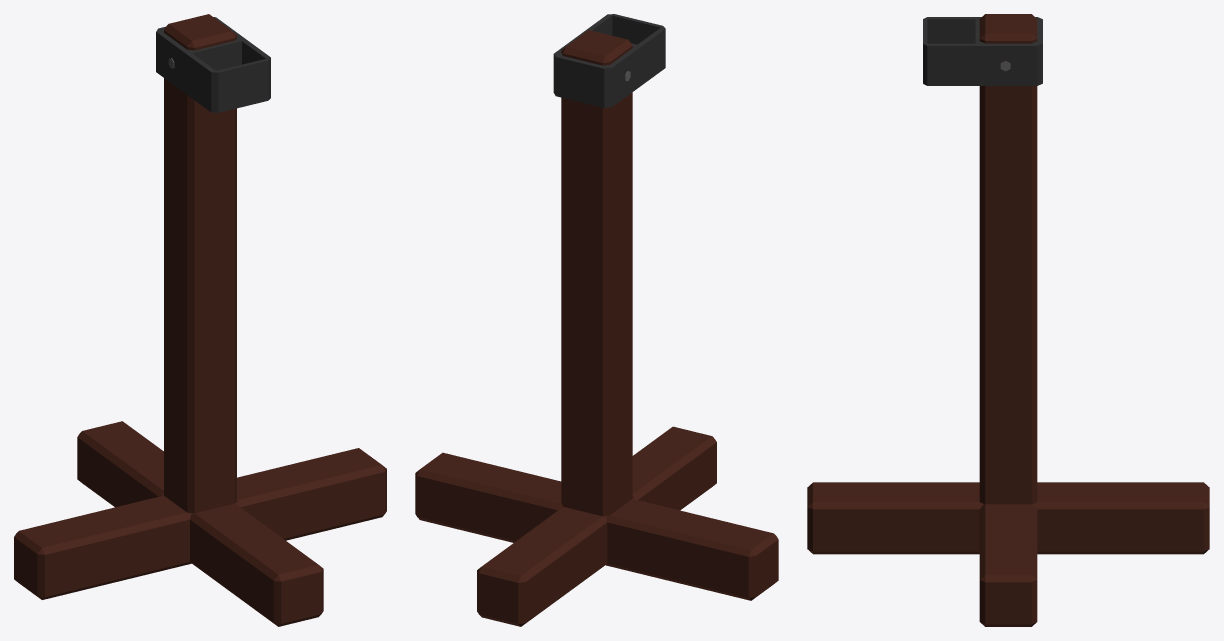
Rendered from shield_rack.glb.
The picture shows the model from 3 angles, left to right: view 1: azimuth 30°, elevation 25°; view 2: azimuth 150°, elevation 25°; view 3: azimuth 270°, elevation 25°; orthographic projection. The views are drawn at different scales.
Parts seen in each view (by area): view 1: Rack; view 2: Rack; view 3: Rack.
Boxes of the visible parts, x1=… form: Rack: x1=14, y1=14, x2=386, y2=626; Rack: x1=415, y1=14, x2=778, y2=626; Rack: x1=807, y1=14, x2=1209, y2=626.
Bounding box in the file's own units: 1.4 × 2 × 1.4.
